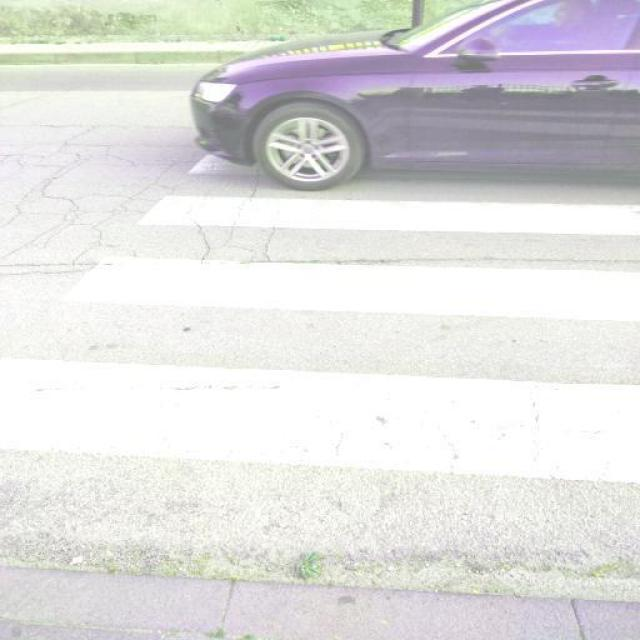crosswalk: (1, 172, 640, 640)
